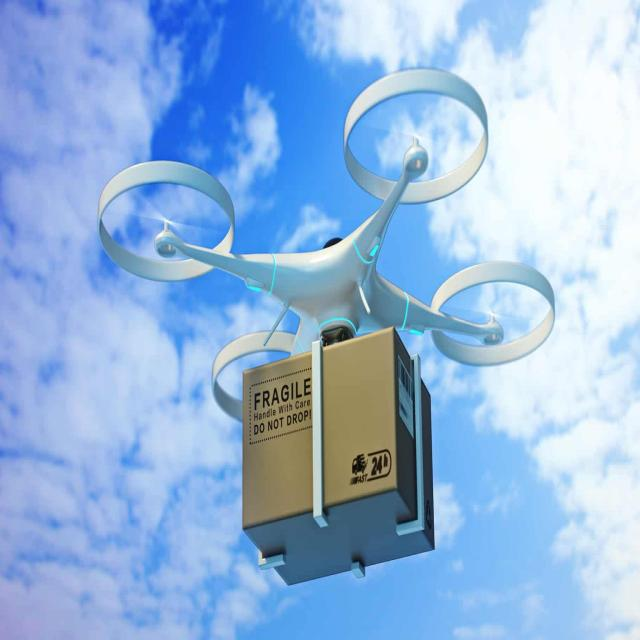drones: (88, 60, 568, 448)
